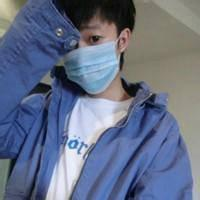face_mask: (62, 23, 117, 94)
